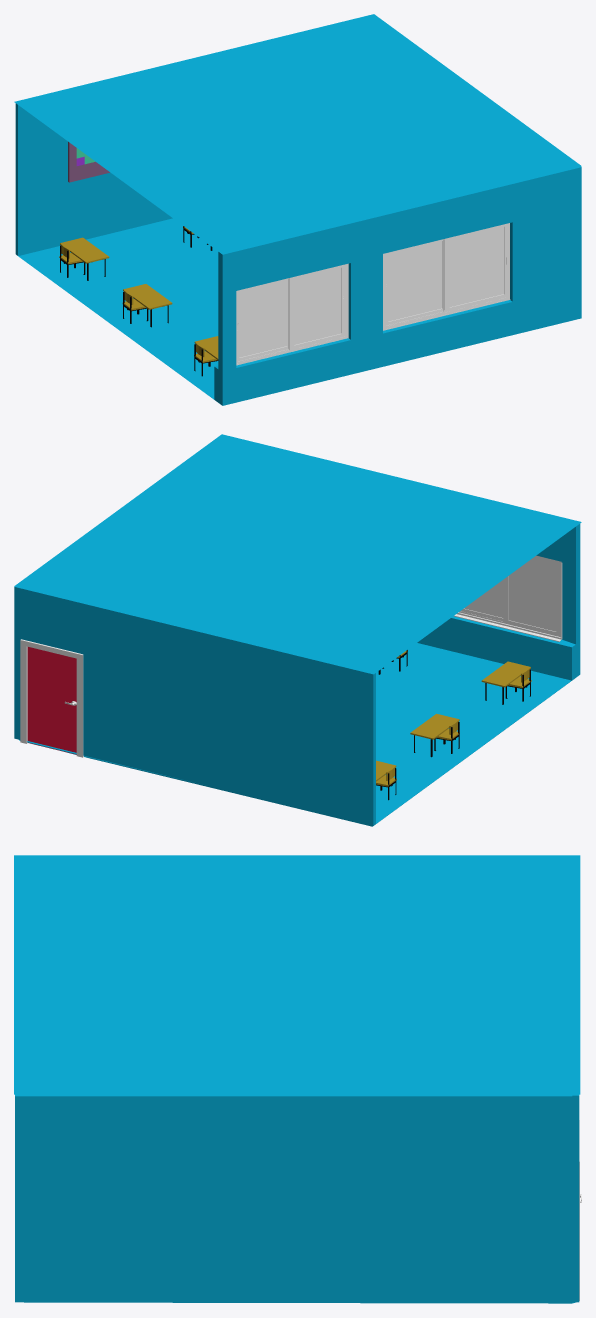
File: class_room.glb
3 renders of one model, top to bottom at view 1: azimuth 30°, elevation 25°; view 2: azimuth 150°, elevation 25°; view 3: azimuth 270°, elevation 25°, orthographic. The views are drawn at different scales.
Parts seen in each view (by area): view 1: Plane.002, Plane.001, Window.R.001, Window.L.001, Window.R, Window.L, Cube.001, WindowFrame.001, Cube.006, WindowFrame; view 2: Plane.002, Plane.001, Door, Window.L, Cube.001, DoorFrame, Window.R, WindowFrame; view 3: Plane.002, Plane.001.
Boxes of the visible parts, x1,y1,x2,y2 form: Plane.002: (14,14,581,253); Plane.001: (15,103,581,405); Window.R.001: (443,223,507,312); Window.L.001: (386,239,443,325); Window.R: (288,264,344,349); Window.L: (237,278,288,361); Cube.001: (59,226,218,376); WindowFrame.001: (383,223,510,330); Cube.006: (68,141,109,182); WindowFrame: (236,263,348,365); Plane.002: (14,434,581,673); Plane.001: (14,523,580,826); Door: (27,647,76,754); Window.L: (503,557,559,636); Cube.001: (376,650,531,800); DoorFrame: (20,639,83,757); Window.R: (461,580,503,621); WindowFrame: (457,555,562,639); Plane.002: (14,855,580,1094); Plane.001: (15,1094,579,1303).
Size of the model in its own units: 40.2 by 16.62 by 40.31.
